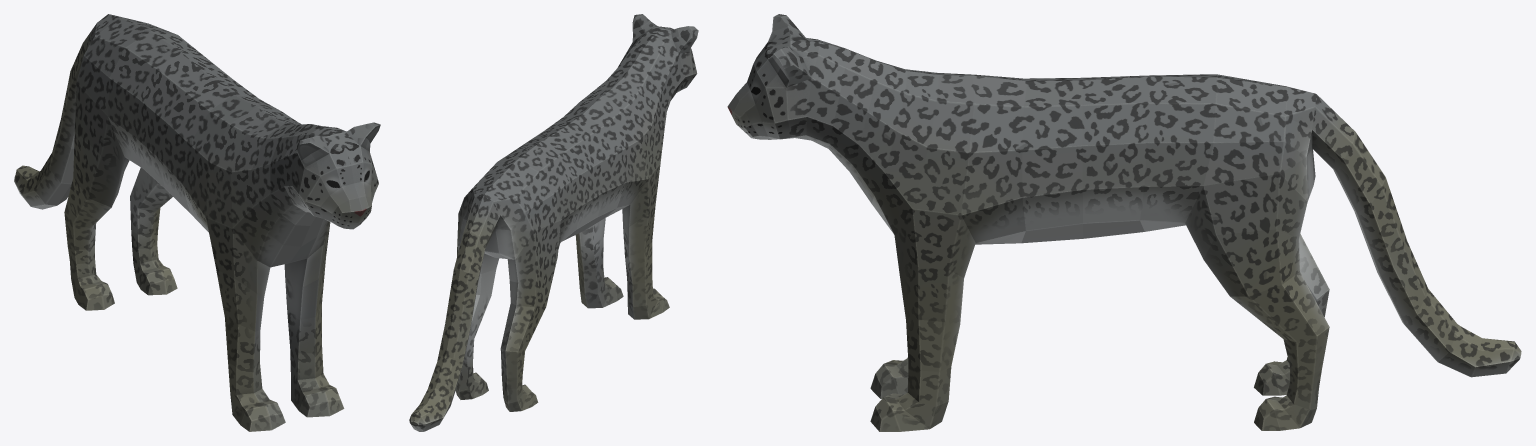
Rendered from SnowLeopard.obj.
3 views of the same model, side by side, from view 1: azimuth 30°, elevation 25°; view 2: azimuth 150°, elevation 25°; view 3: azimuth 270°, elevation 25° (orthographic). The views are drawn at different scales.
Parts seen in each view (by area): view 1: SnowLeopard_mesh; view 2: SnowLeopard_mesh; view 3: SnowLeopard_mesh.
Boxes of the visible parts, x1=… form: SnowLeopard_mesh: x1=14, y1=14, x2=380, y2=431; SnowLeopard_mesh: x1=409, y1=14, x2=698, y2=431; SnowLeopard_mesh: x1=727, y1=14, x2=1521, y2=431.
Size of the model in its own units: 1.69 by 4.67 by 9.04.
Materials: 1 (1 with a texture image).
